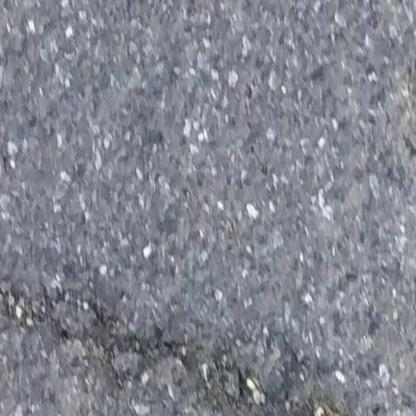Cracks: (0, 275, 364, 416)
